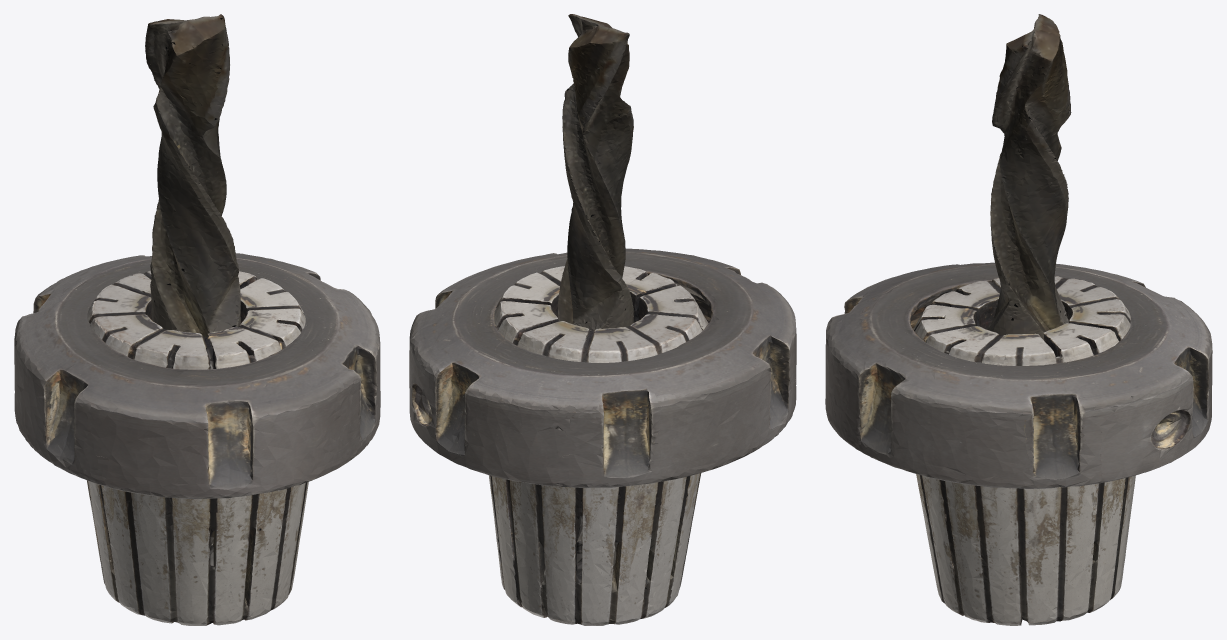
Rendered from ubc_er_components.glb.
3 views of the same model, side by side, from view 1: azimuth 30°, elevation 25°; view 2: azimuth 150°, elevation 25°; view 3: azimuth 270°, elevation 25° (orthographic). The views are drawn at different scales.
Visible parts, largest first — view 1: ER_locknut, ER_collet, carbide_endmill; view 2: ER_locknut, ER_collet, carbide_endmill; view 3: ER_locknut, ER_collet, carbide_endmill.
Part boxes in pixels (x1,y1,x2,y2): ER_locknut: [14, 253, 380, 499]; ER_collet: [87, 270, 308, 625]; carbide_endmill: [145, 14, 241, 337]; ER_locknut: [409, 248, 796, 487]; ER_collet: [489, 266, 708, 625]; carbide_endmill: [558, 14, 633, 331]; ER_locknut: [825, 262, 1212, 488]; ER_collet: [913, 276, 1135, 625]; carbide_endmill: [987, 14, 1071, 340].
Bounding box in the file's own units: 1.27 × 2.19 × 1.35.
Materials: 3 (3 with a texture image).
